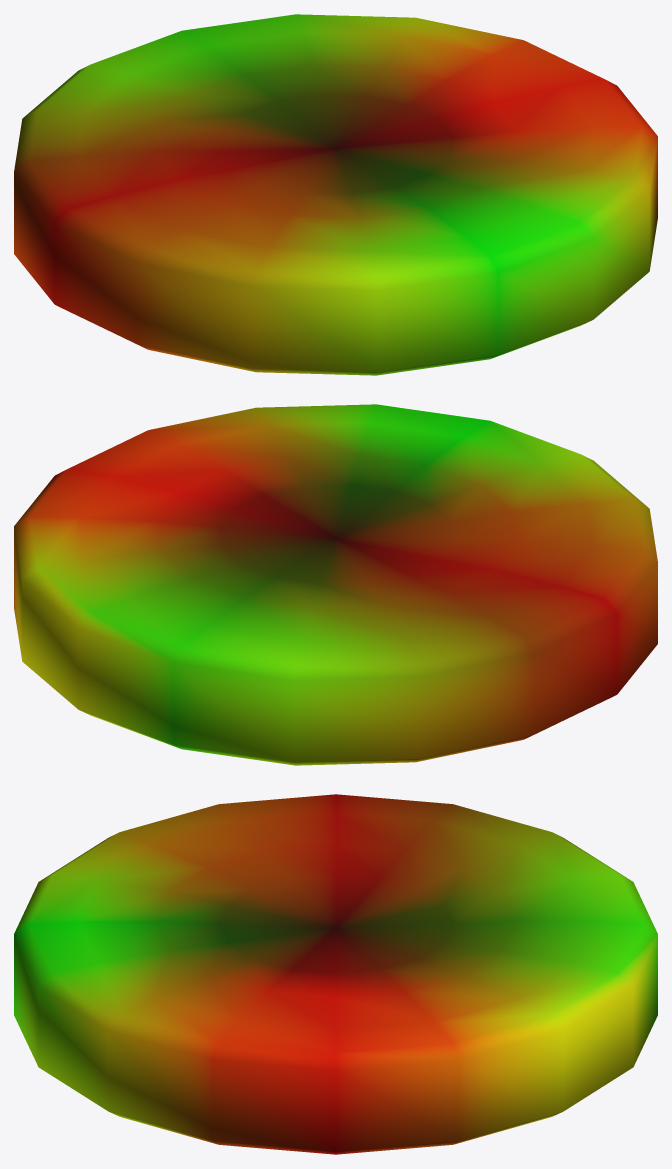
Rendered from BunBottom.fbx.
The picture shows the model from 3 angles, top to bottom: view 1: azimuth 30°, elevation 25°; view 2: azimuth 150°, elevation 25°; view 3: azimuth 270°, elevation 25°; orthographic projection.
Visible parts, largest first — view 1: BunBottom; view 2: BunBottom; view 3: BunBottom.
Boxes of the visible parts, x1=… form: BunBottom: x1=14, y1=14, x2=657, y2=375; BunBottom: x1=14, y1=404, x2=657, y2=765; BunBottom: x1=14, y1=794, x2=657, y2=1154.
Bounding box in the file's own units: 190 × 37.71 × 190.
